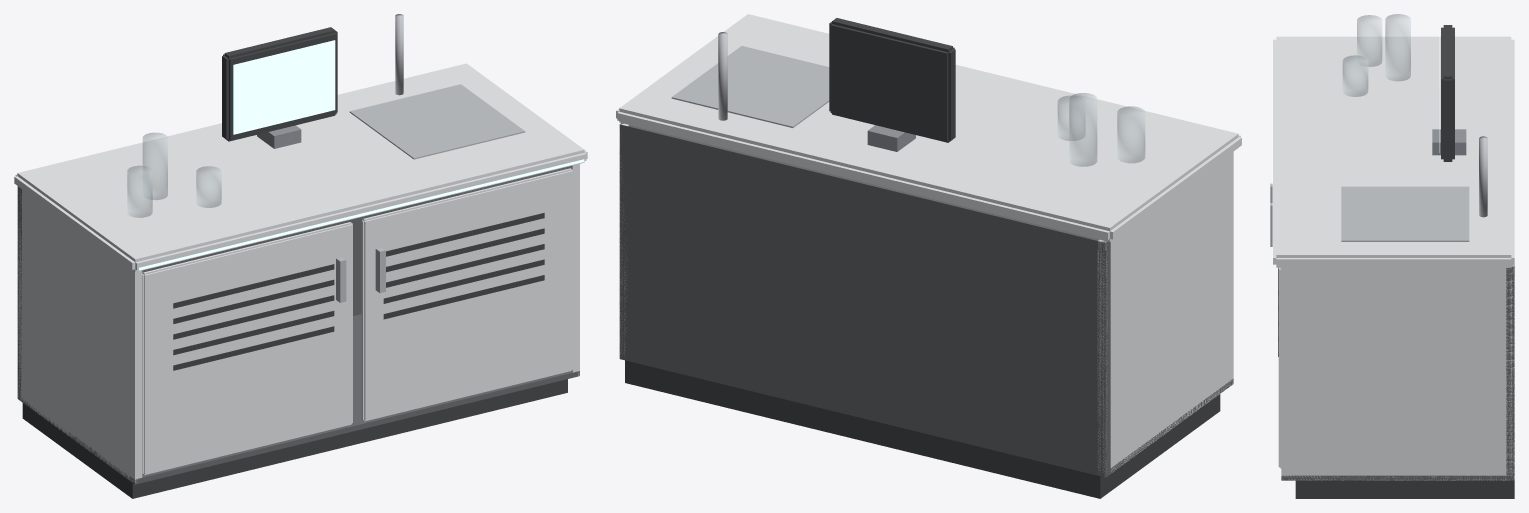
Rendered from bench.glb.
The picture shows the model from 3 angles, left to right: view 1: azimuth 30°, elevation 25°; view 2: azimuth 150°, elevation 25°; view 3: azimuth 270°, elevation 25°; orthographic projection. The views are drawn at different scales.
Visible parts, largest first — view 1: b_top, door_R_p, door_L_p, b_sideL, b_kick, b_sink, b_scr, b_floor, b_mon, b_back, b_sideR, b_beaker1 (+15 smaller); view 2: b_back, b_top, b_sideL, b_kick, b_mon, b_sink, b_floor, b_beaker1, b_beaker0, b_beaker2, b_monfoot, b_tap; view 3: b_sideR, b_top, b_sink, b_kick, b_back, b_mon, b_beaker1, b_floor, b_beaker0, b_beaker2, door_R_p, b_tap (+1 smaller).
Part boxes in pixels (bbox=[...]): b_top: bbox=[14, 63, 587, 272]; door_R_p: bbox=[361, 168, 572, 421]; door_L_p: bbox=[142, 222, 352, 475]; b_sideL: bbox=[17, 188, 142, 483]; b_kick: bbox=[22, 379, 567, 498]; b_sink: bbox=[349, 84, 525, 159]; b_scr: bbox=[233, 40, 335, 134]; b_floor: bbox=[18, 314, 579, 484]; b_mon: bbox=[222, 27, 337, 141]; b_back: bbox=[17, 186, 459, 400]; b_sideR: bbox=[459, 164, 579, 375]; b_beaker1: bbox=[143, 132, 167, 199]; b_back: bbox=[619, 123, 1110, 477]; b_top: bbox=[616, 14, 1241, 241]; b_sideL: bbox=[1097, 152, 1233, 476]; b_kick: bbox=[625, 360, 1220, 498]; b_mon: bbox=[829, 18, 955, 142]; b_sink: bbox=[671, 46, 829, 127]; b_floor: bbox=[620, 354, 1233, 477]; b_beaker1: bbox=[1069, 93, 1096, 166]; b_beaker0: bbox=[1117, 106, 1144, 162]; b_beaker2: bbox=[1058, 96, 1085, 140]; b_monfoot: bbox=[867, 125, 915, 151]; b_tap: bbox=[718, 32, 727, 120]; b_sideR: bbox=[1281, 264, 1514, 480]; b_top: bbox=[1273, 36, 1514, 267]; b_sink: bbox=[1341, 186, 1469, 241]; b_kick: bbox=[1295, 480, 1514, 498]; b_back: bbox=[1506, 264, 1514, 480]; b_mon: bbox=[1441, 25, 1454, 161]; b_beaker1: bbox=[1385, 14, 1410, 80]; b_floor: bbox=[1281, 475, 1514, 480]; b_beaker0: bbox=[1357, 15, 1381, 66]; b_beaker2: bbox=[1343, 55, 1367, 96]; door_R_p: bbox=[1278, 267, 1281, 468]; b_tap: bbox=[1479, 136, 1487, 217].
Size of the model in its own units: 1.84 by 1.34 by 0.86.
